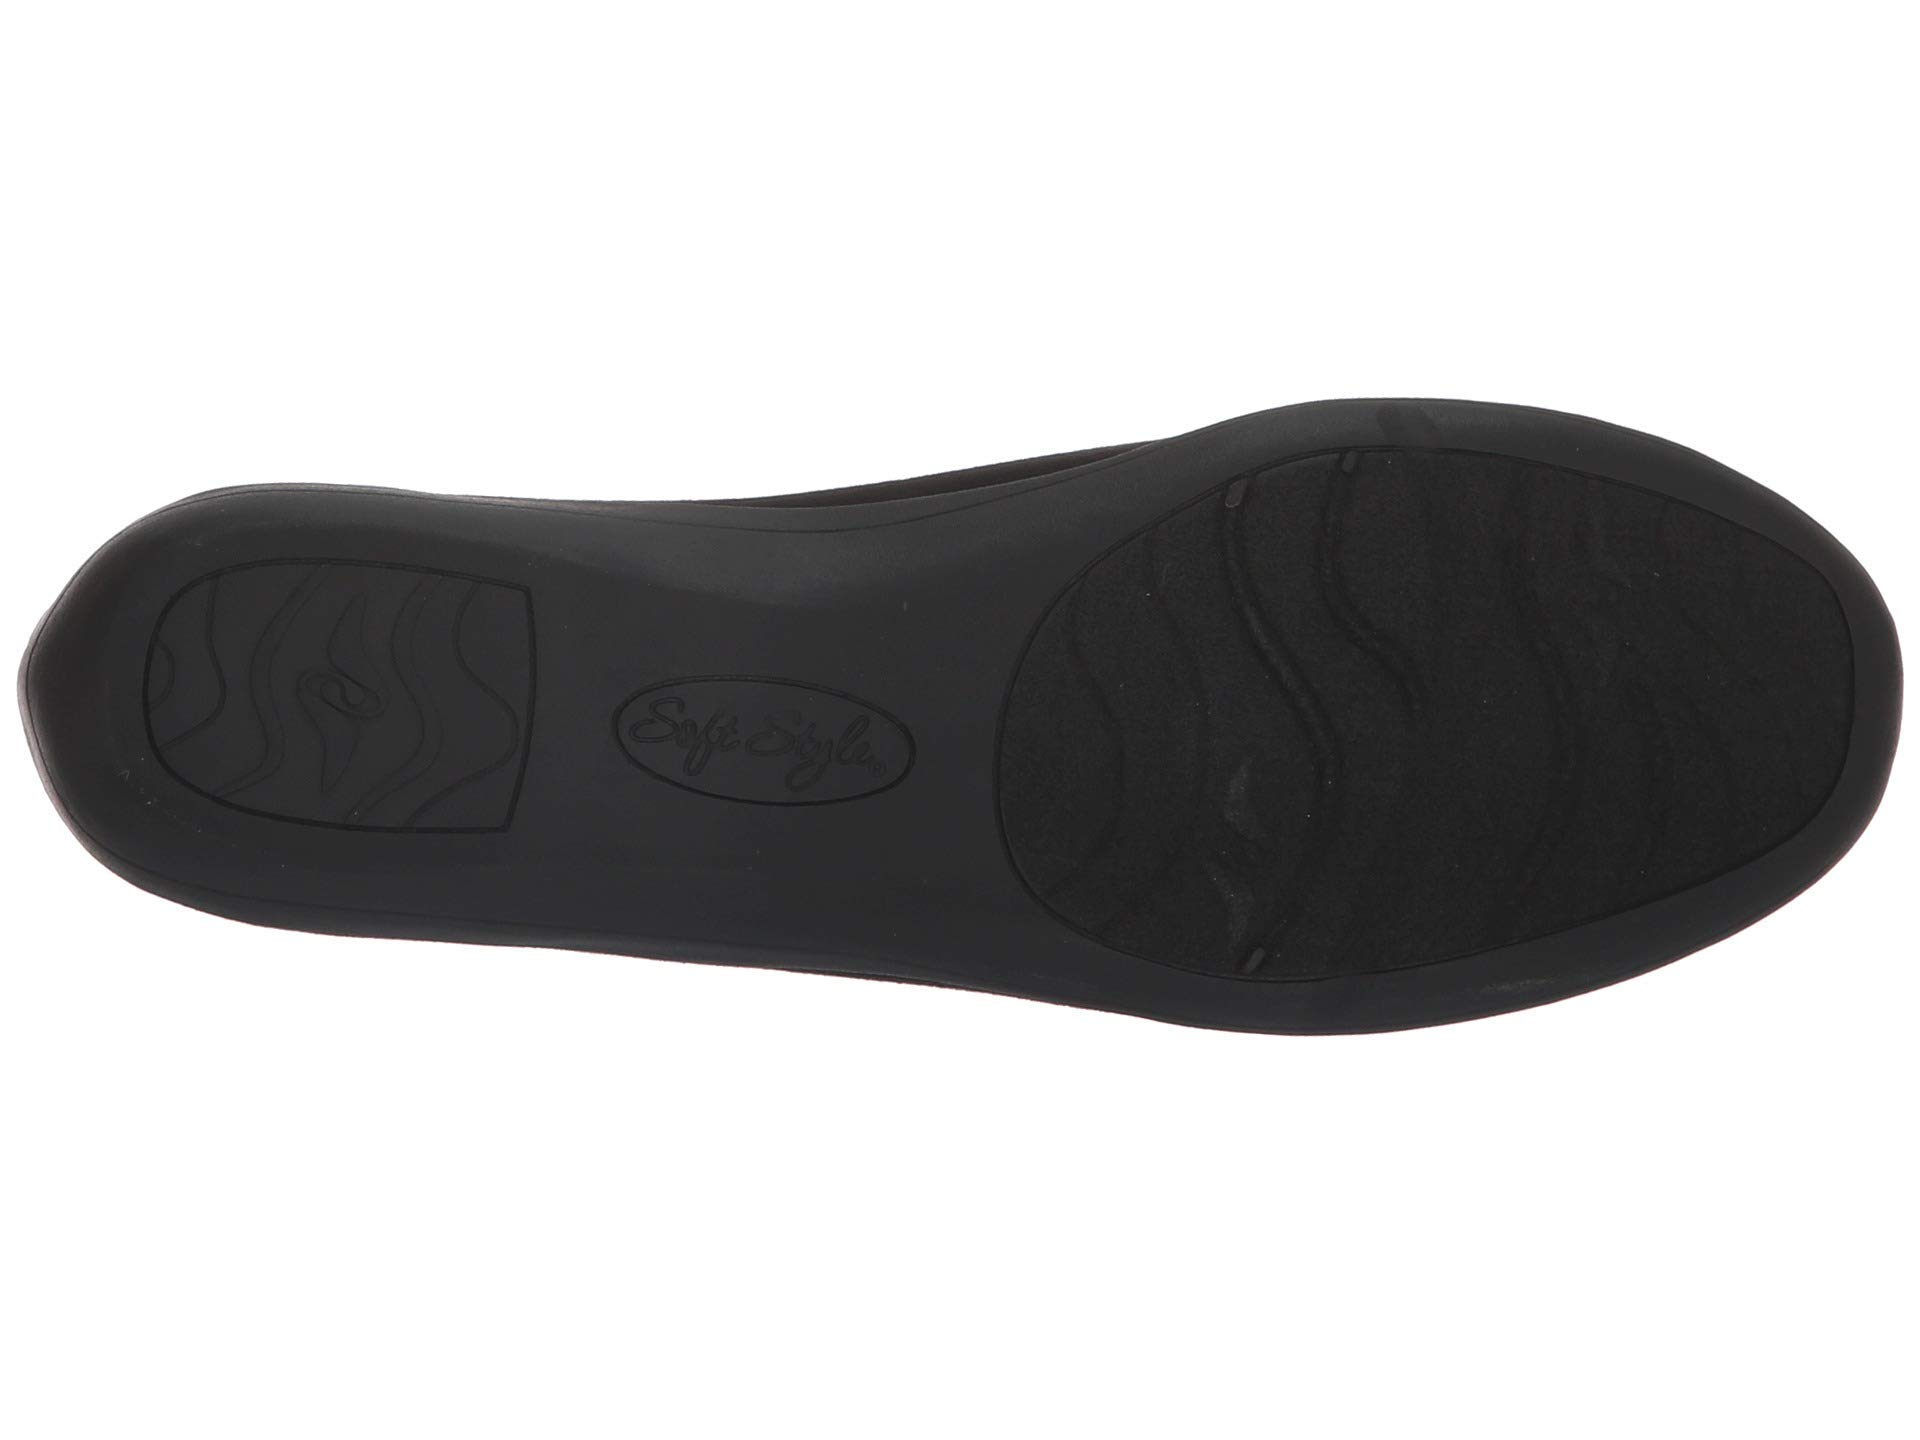circle: (587, 658, 928, 824)
line: (981, 448, 1847, 979)
text: (587, 658, 928, 824)
